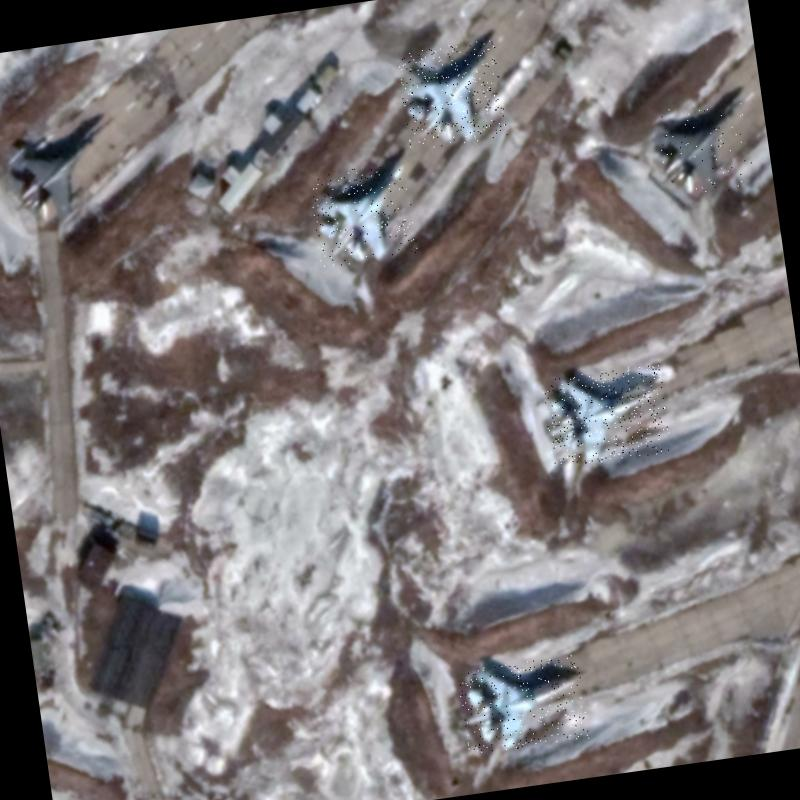A1: (540, 362, 672, 469), (456, 654, 589, 755), (395, 38, 507, 150), (308, 161, 418, 268), (653, 95, 757, 199)
